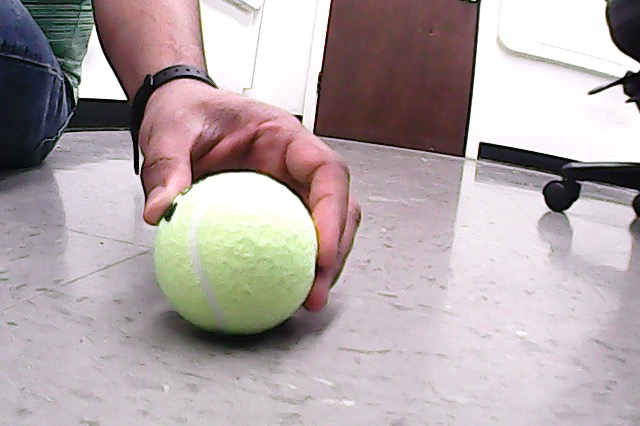ball: (154, 173, 317, 335)
